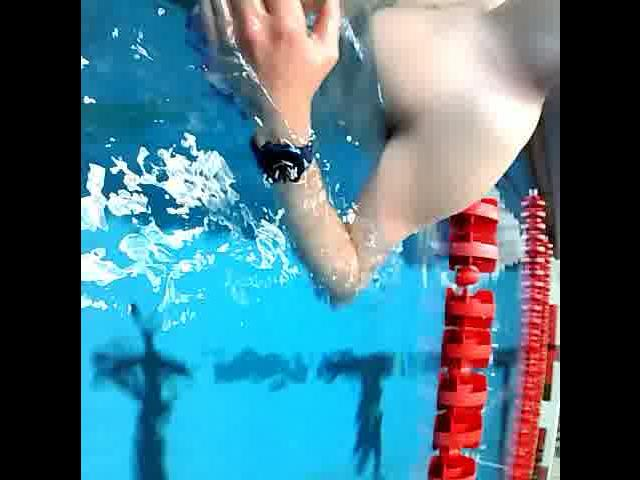Bottle: (249, 0, 393, 20)
